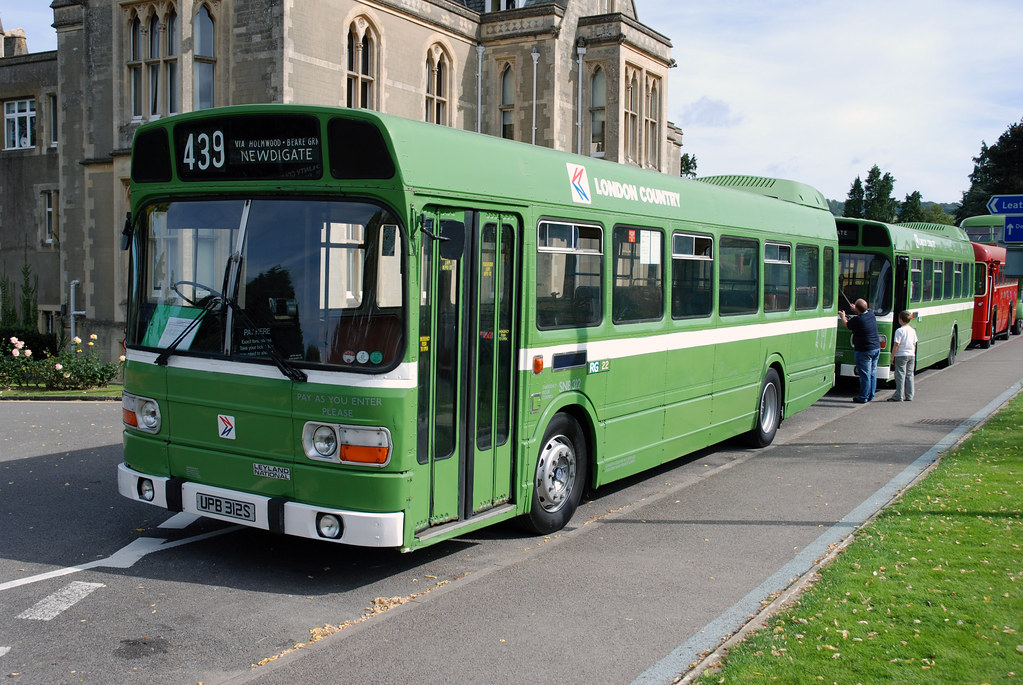bus: (124, 106, 847, 527)
person: (848, 299, 883, 408)
